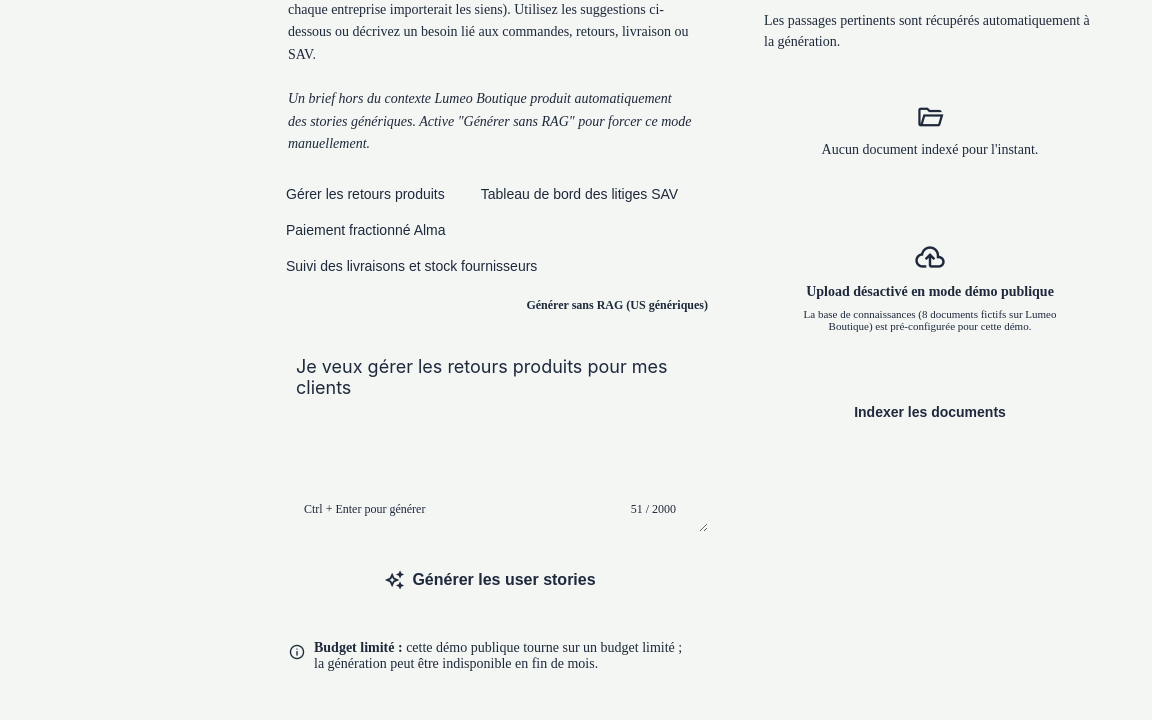
Test: Forge — panneau RAG pendant le streaming › affiche les pastilles de sources avec les filenames dédupliqués
(page scrolled)
Click the button "Générer les user stories" at coordinates (490, 580), box x1=272 y1=552 x2=708 y2=608
(page scrolled)
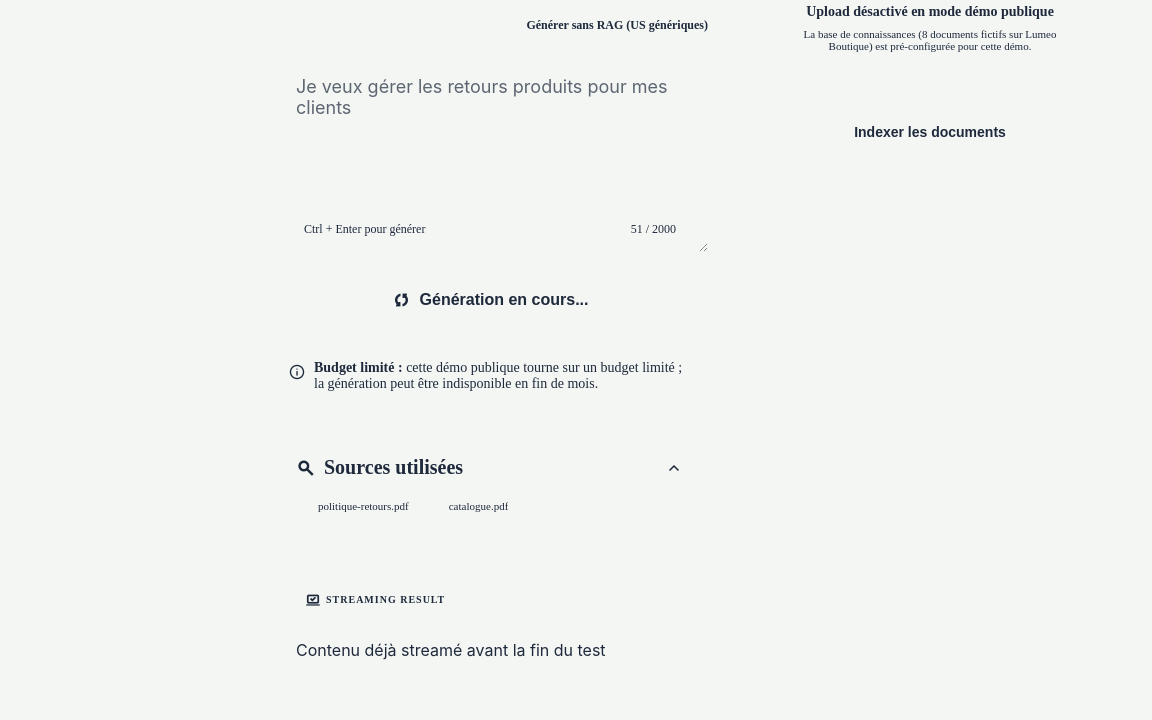
Check: the text "Sources utilisées" is shown, box x1=296 y1=456 x2=463 y2=480
Check: the text "politique-retours.pdf" is shown once, box x1=318 y1=500 x2=409 y2=512
Check: the text "catalogue.pdf" is shown, box x1=449 y1=500 x2=508 y2=512
